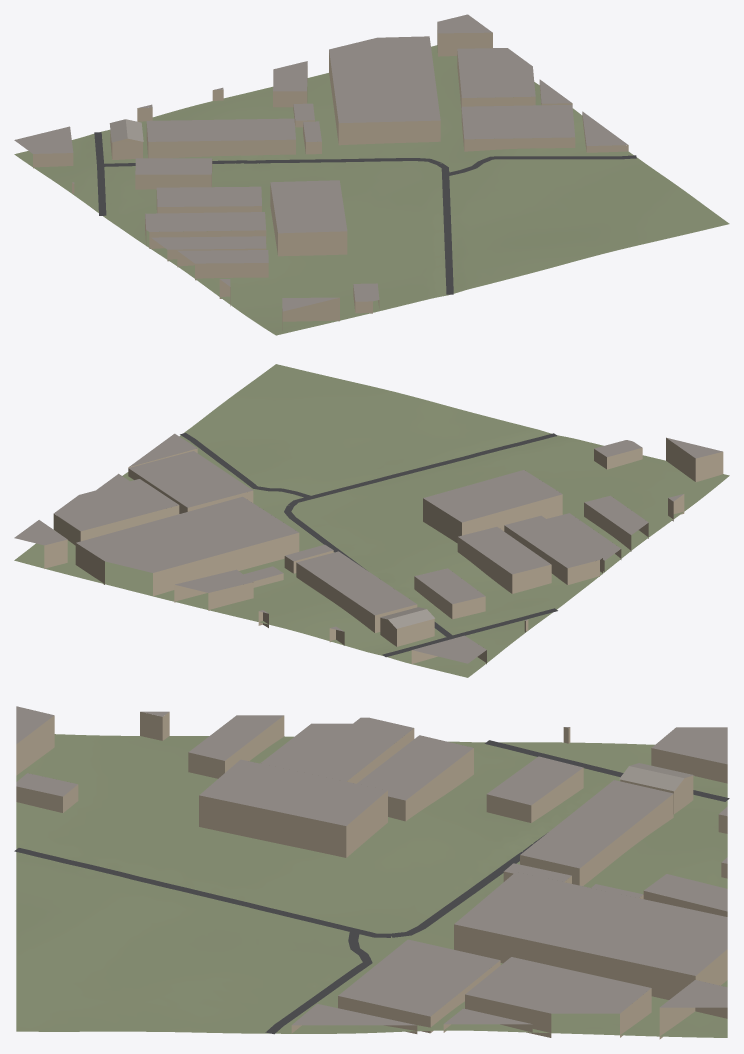
3 renders of one model, top to bottom at view 1: azimuth 30°, elevation 25°; view 2: azimuth 150°, elevation 25°; view 3: azimuth 270°, elevation 25°, orthographic. The views are drawn at different scales.
Visible parts, largest first — view 1: ground, roofs, walls, road, sheetRoofs; view 2: ground, roofs, walls, road, sheetRoofs; view 3: ground, roofs, walls, road, sheetRoofs.
Boxes of the visible parts, <box> form: ground: <box>14,45,729,335</box>; roofs: <box>14,14,627,311</box>; walls: <box>33,23,628,330</box>; road: <box>94,132,636,294</box>; sheetRoofs: <box>109,119,143,142</box>; ground: <box>14,364,729,677</box>; roofs: <box>14,433,722,663</box>; walls: <box>44,438,723,664</box>; road: <box>180,433,557,657</box>; sheetRoofs: <box>380,607,434,628</box>; ground: <box>16,734,727,1037</box>; roofs: <box>16,706,727,1025</box>; walls: <box>16,711,727,1039</box>; road: <box>14,740,729,1034</box>; sheetRoofs: <box>619,763,694,791</box>.
Bounding box in the file's own units: 252 × 17.49 × 252.
